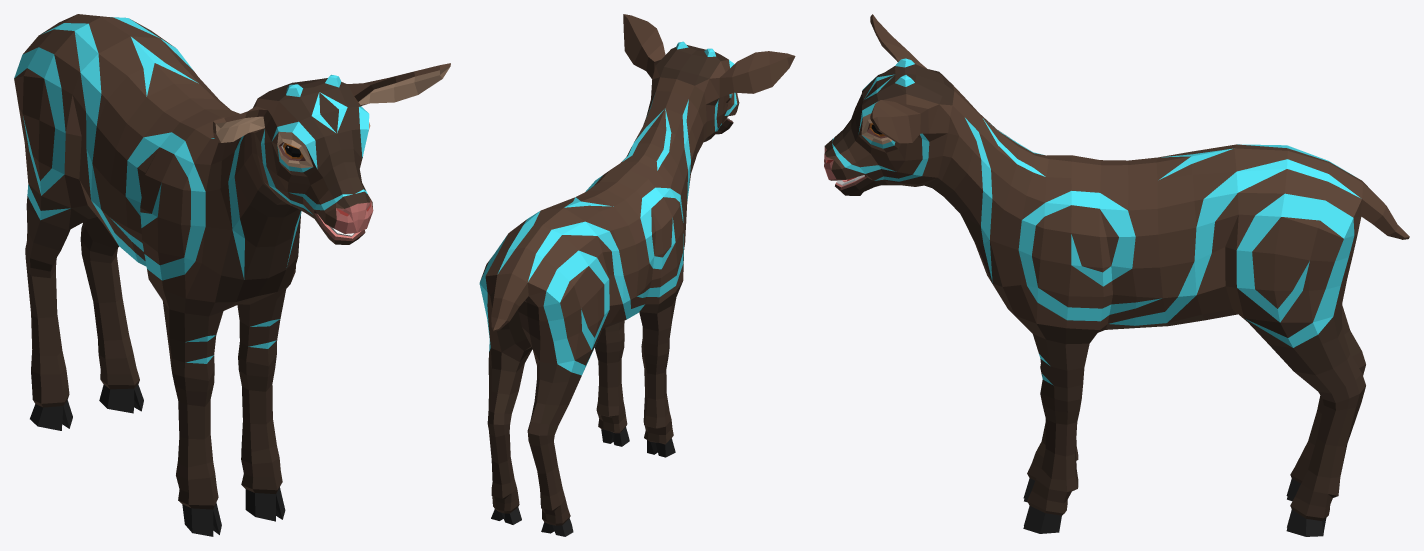
The model's file is LowPoly_Goatling_9.obj.
3 views of the same model, side by side, from view 1: azimuth 30°, elevation 25°; view 2: azimuth 150°, elevation 25°; view 3: azimuth 270°, elevation 25° (orthographic). The views are drawn at different scales.
Visible parts, largest first — view 1: Goatling_9_Cube.010; view 2: Goatling_9_Cube.010; view 3: Goatling_9_Cube.010.
Boxes of the visible parts, box(x1,y1,x2,y2) form: Goatling_9_Cube.010: box(14, 14, 450, 536); Goatling_9_Cube.010: box(479, 14, 795, 536); Goatling_9_Cube.010: box(824, 14, 1409, 536).
Bounding box in the file's own units: 0.2081 × 0.4165 × 0.4936.
